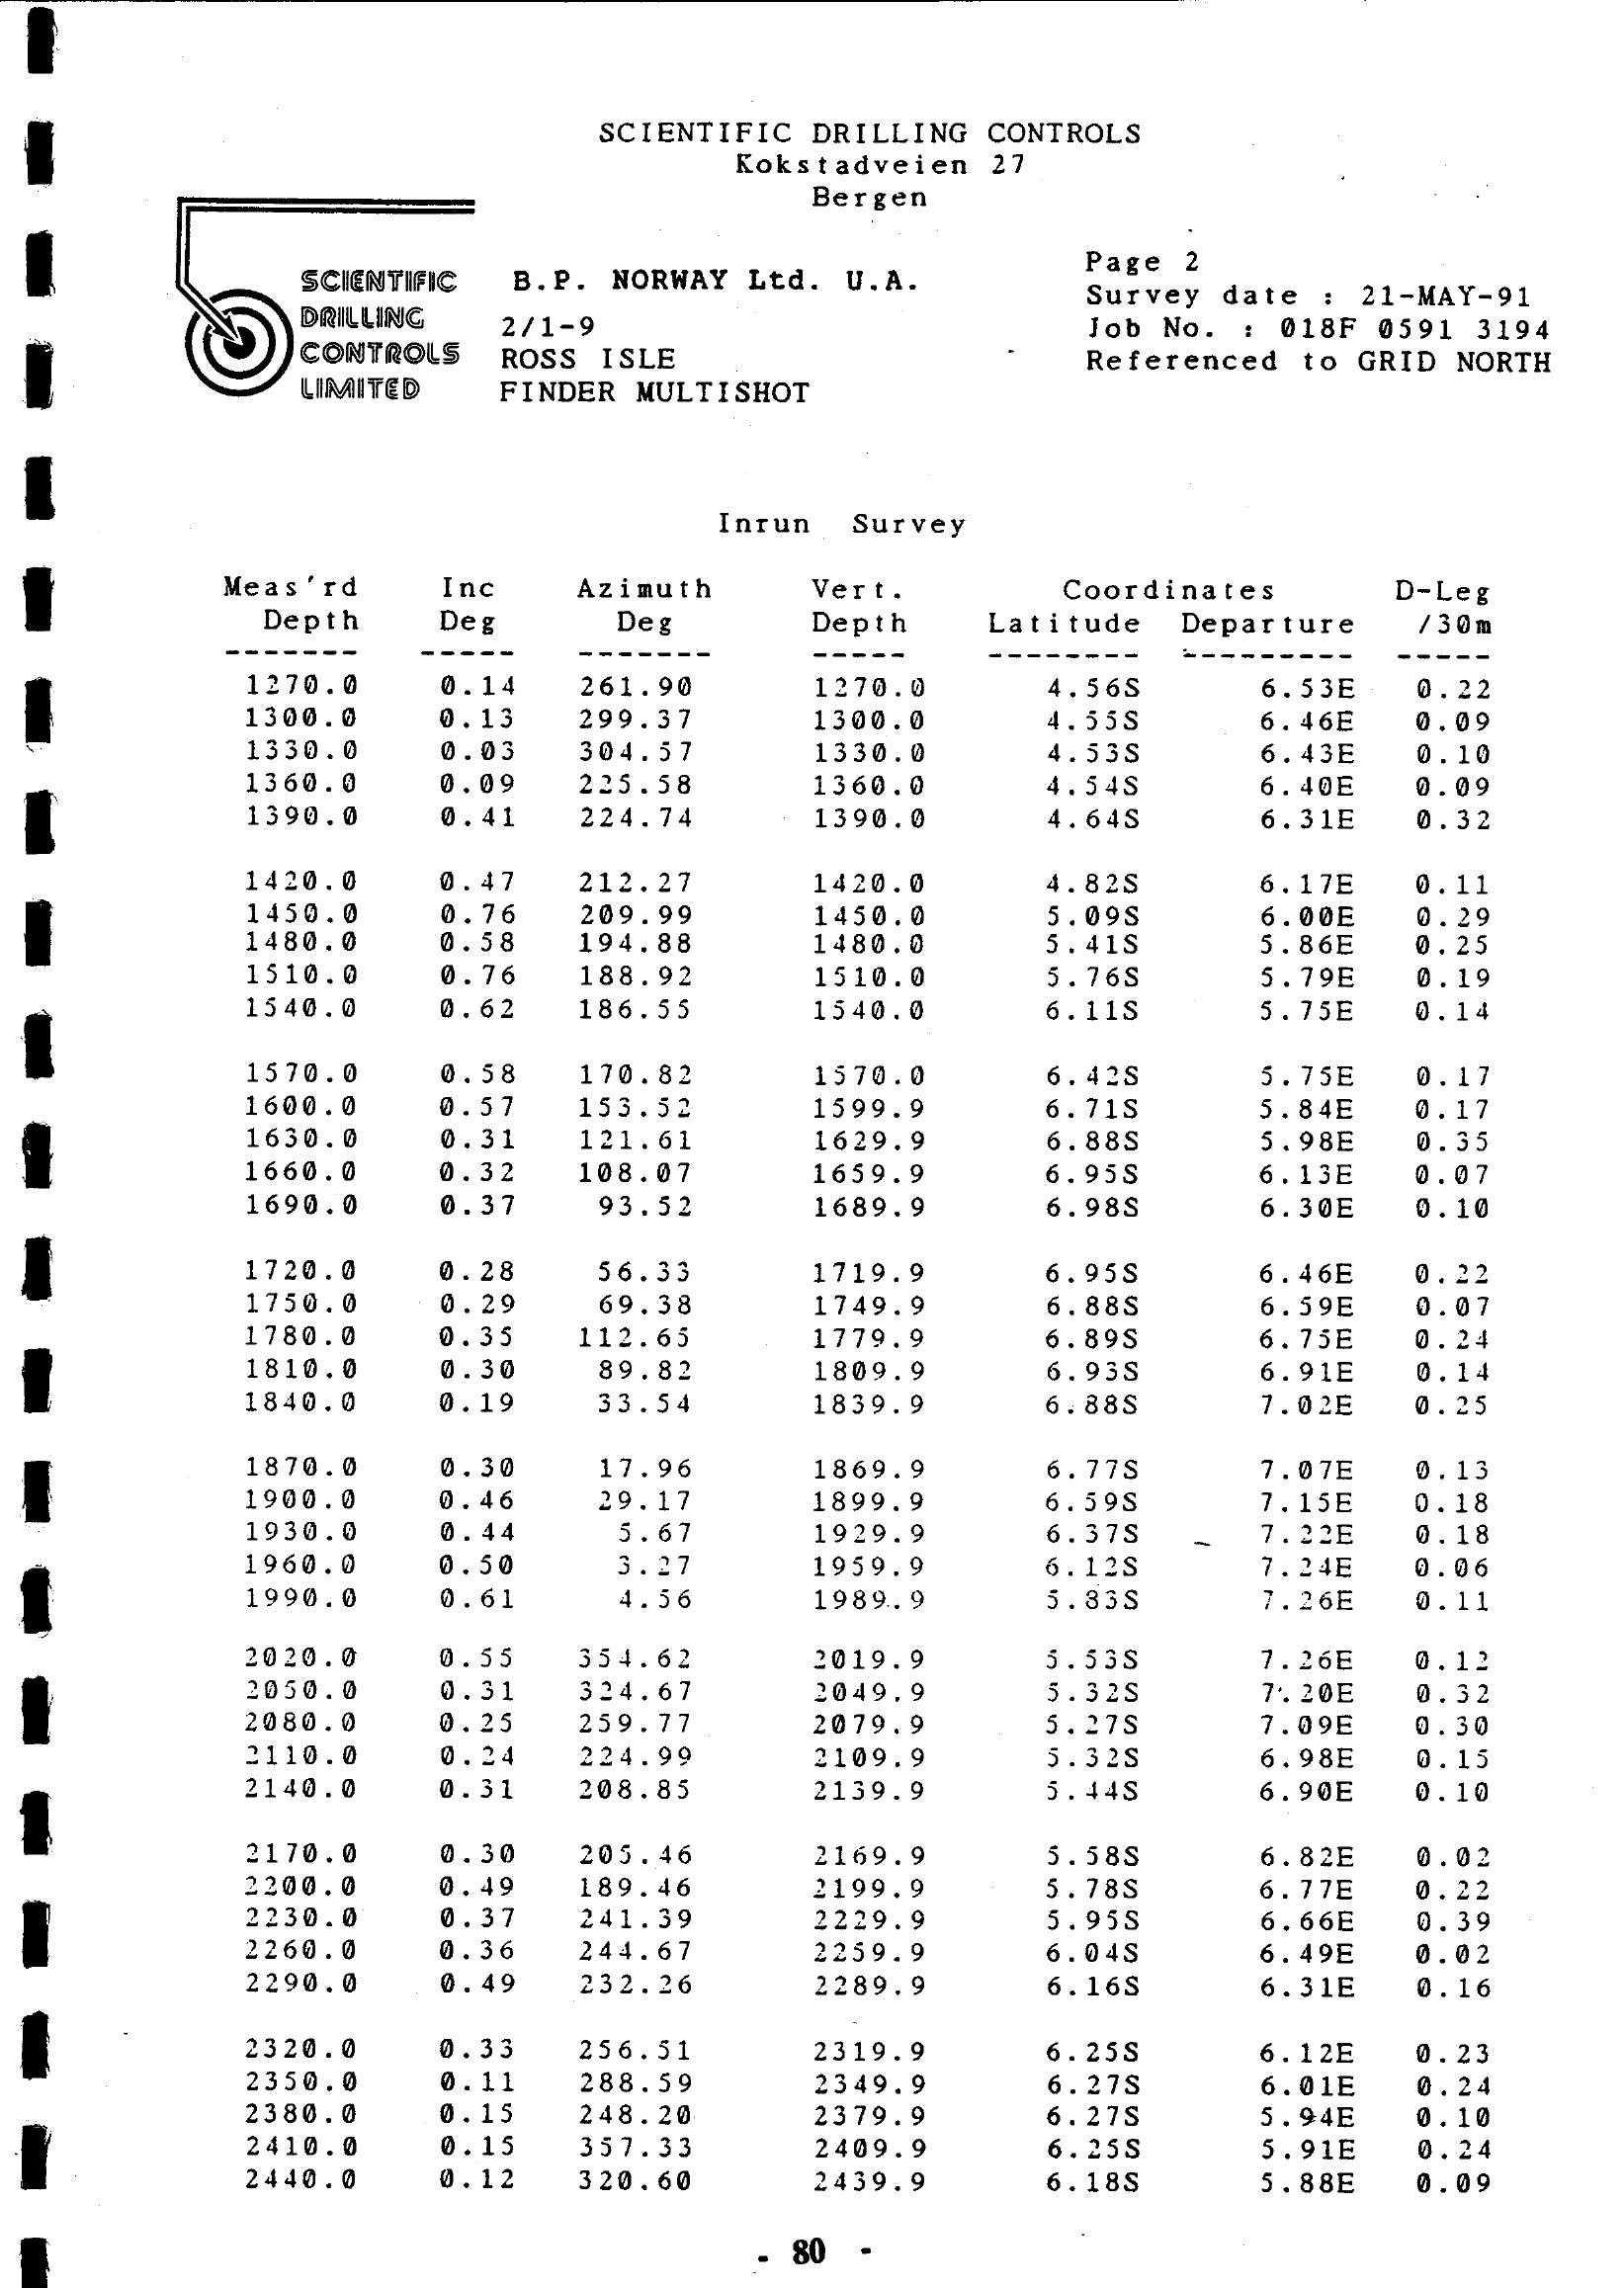table: (160, 464, 1536, 2214)
text: (490, 232, 1557, 422)
undefined: (153, 169, 483, 431)
